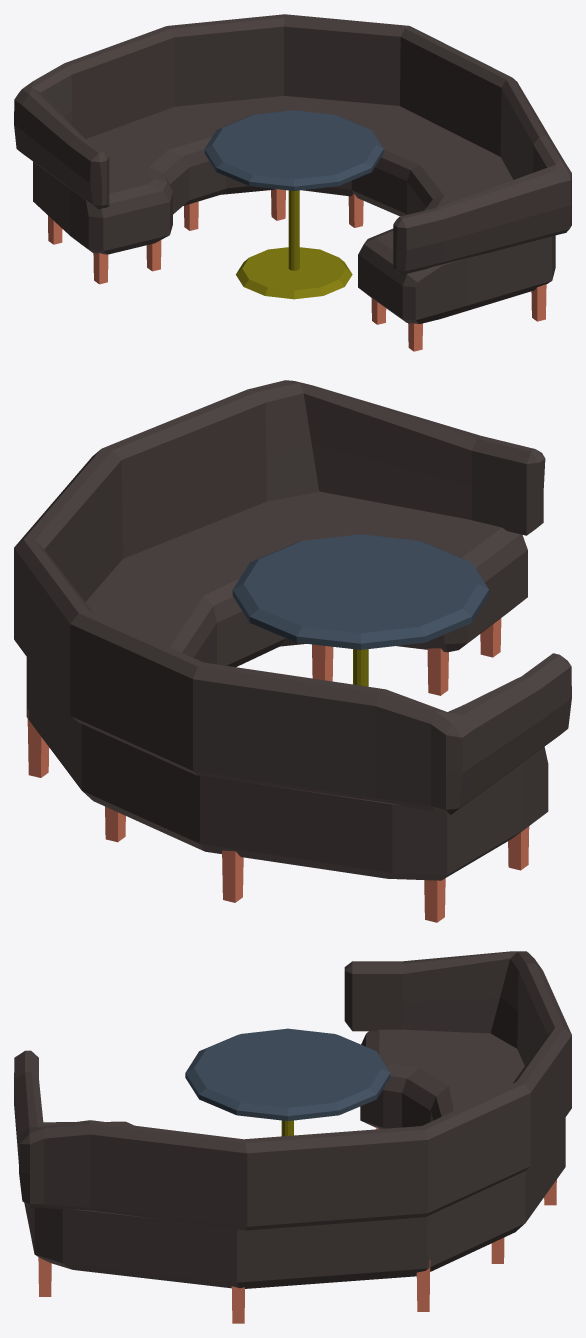
File: CornerChairPlusTable.fbx
The picture shows the model from 3 angles, top to bottom: view 1: azimuth 30°, elevation 25°; view 2: azimuth 150°, elevation 25°; view 3: azimuth 270°, elevation 25°; orthographic projection. The views are drawn at different scales.
Visible parts, largest first — view 1: Cube.004; view 2: Cube.004; view 3: Cube.004.
Boxes of the visible parts, x1,y1,x2,y2 form: Cube.004: (14,14,571,351); Cube.004: (14,380,571,922); Cube.004: (14,951,571,1323).
Bounding box in the file's own units: 753 × 306 × 834.
